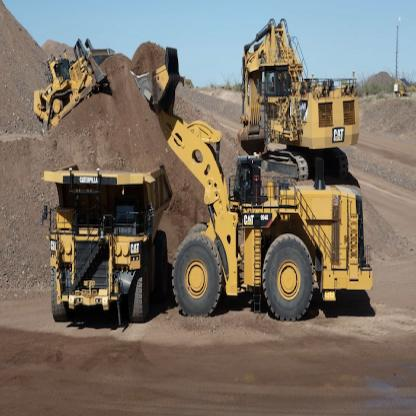bull_dozer/loader/grader: (142, 41, 369, 337), (22, 32, 124, 137)
dump_truck: (29, 145, 167, 343)
